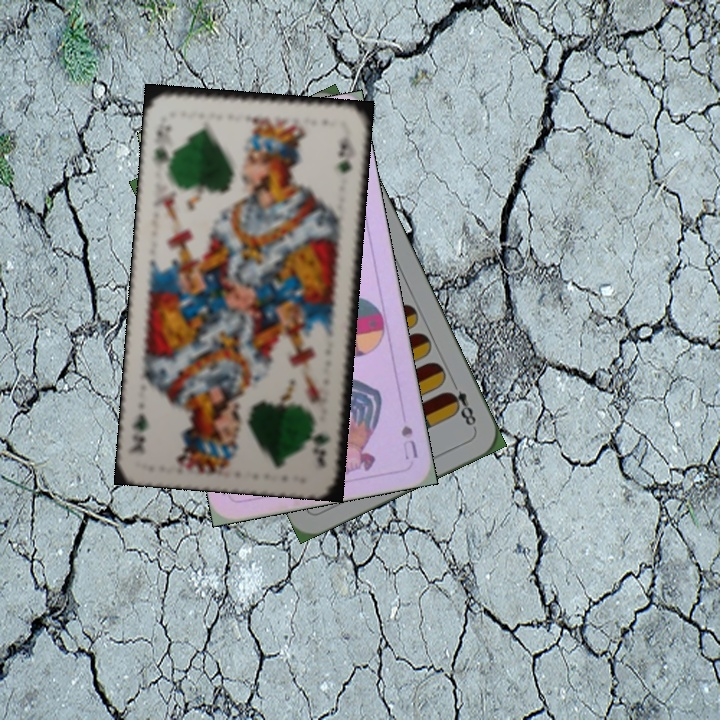E8: (442, 376, 479, 432)
GK: (149, 127, 174, 170), (310, 429, 334, 471)
SU: (397, 421, 421, 462)
